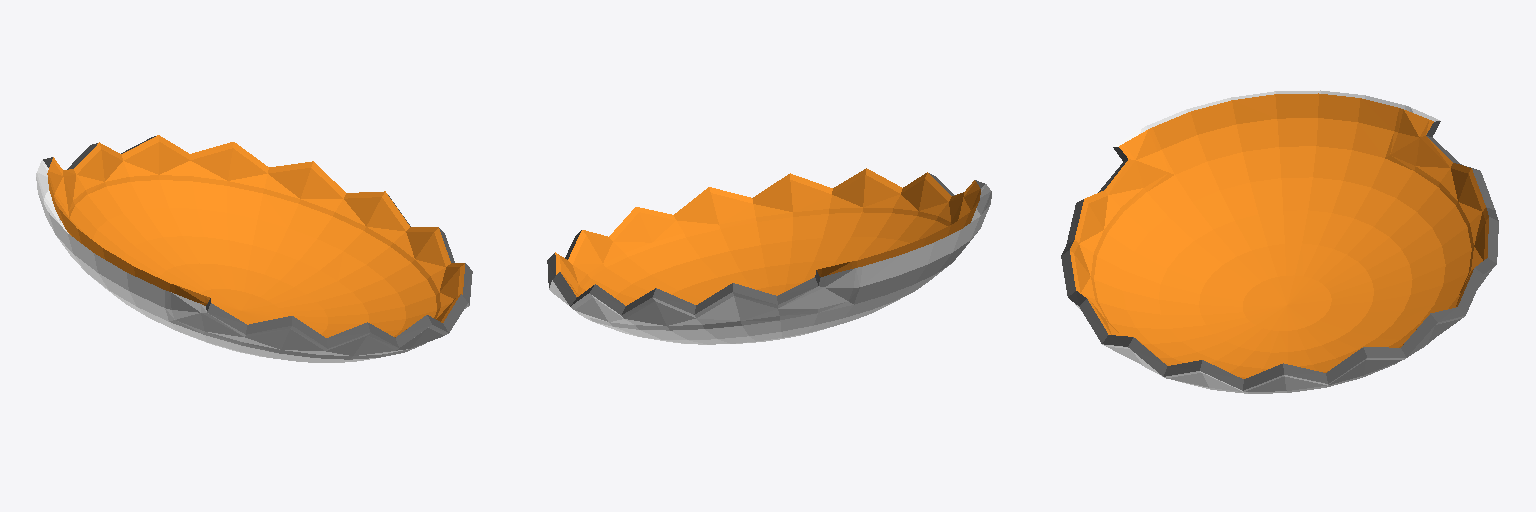
The picture shows the model from 3 angles: view 1: azimuth 30°, elevation 25°; view 2: azimuth 150°, elevation 25°; view 3: azimuth 270°, elevation 25°; orthographic projection.
Parts seen in each view (by area): view 1: Cabeza; view 2: Cabeza; view 3: Cabeza.
Boxes of the visible parts, <box> form: Cabeza: <box>36,135,472,362</box>; Cabeza: <box>547,168,991,344</box>; Cabeza: <box>1061,90,1498,393</box>.
Bounding box in the file's own units: 1.89 × 0.7261 × 1.88.
Materials: 1 (1 with a texture image).